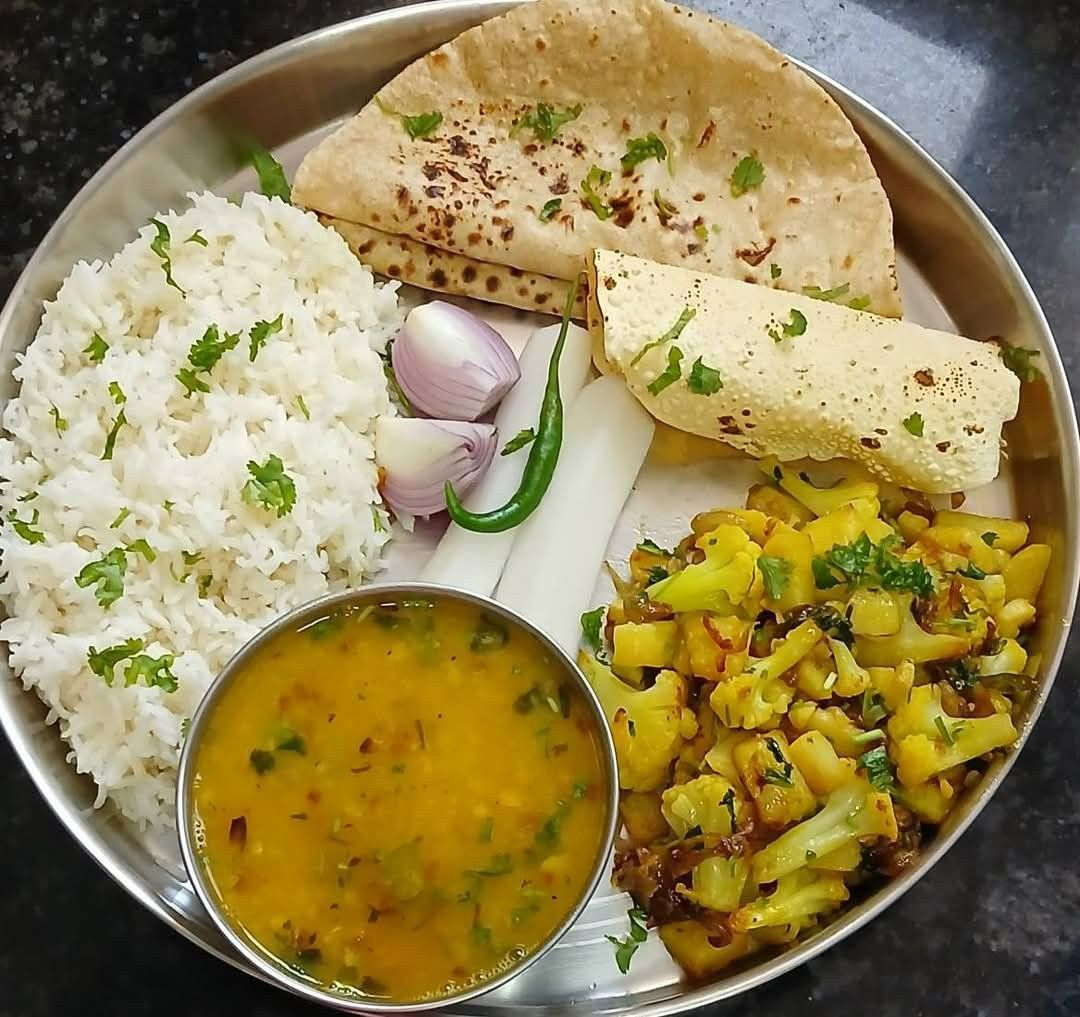bhat: (4, 192, 389, 789)
dal: (195, 600, 613, 990)
sabji: (582, 482, 1042, 962)
